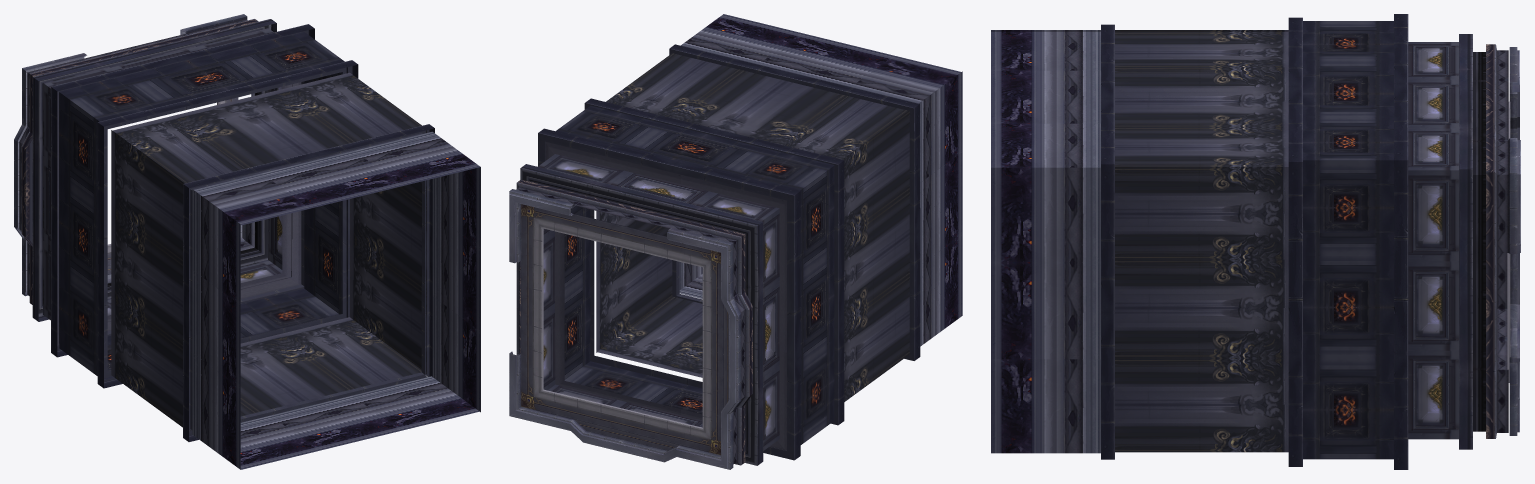
Rendered from Item_mgz_1005_pt_07.FBX.
3 renders of one model, left to right at view 1: azimuth 30°, elevation 25°; view 2: azimuth 150°, elevation 25°; view 3: azimuth 270°, elevation 25°, orthographic. The views are drawn at different scales.
Parts seen in each view (by area): view 1: Item_mgz_1005_pt_07; view 2: Item_mgz_1005_pt_07; view 3: Item_mgz_1005_pt_07.
Boxes of the visible parts, x1=… form: Item_mgz_1005_pt_07: x1=14, y1=14, x2=480, y2=469; Item_mgz_1005_pt_07: x1=509, y1=14, x2=962, y2=469; Item_mgz_1005_pt_07: x1=991, y1=14, x2=1520, y2=469.
Bounding box in the file's own units: 2539 × 2508 × 3888.
1 material, 1 textured.
